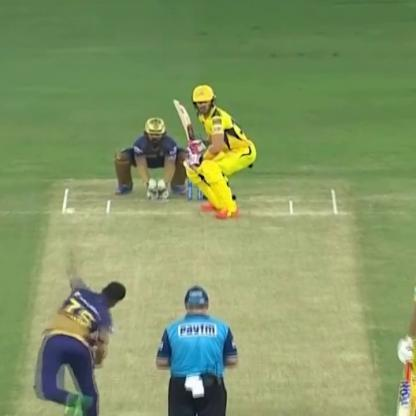bat: (167, 94, 202, 157), (64, 204, 78, 219)
pitch: (24, 183, 386, 416)
